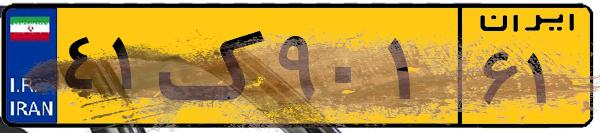0: (330, 28, 385, 110)
1: (385, 28, 445, 110), (525, 38, 570, 115), (110, 28, 158, 98)
4: (57, 26, 110, 100)
6: (475, 38, 525, 113)
9: (270, 28, 330, 110)
ک: (158, 12, 270, 120)
